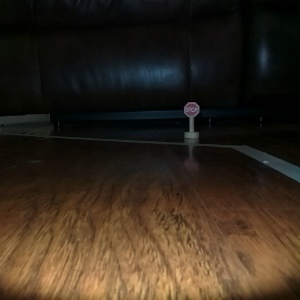stop sign: (180, 100, 201, 142)
